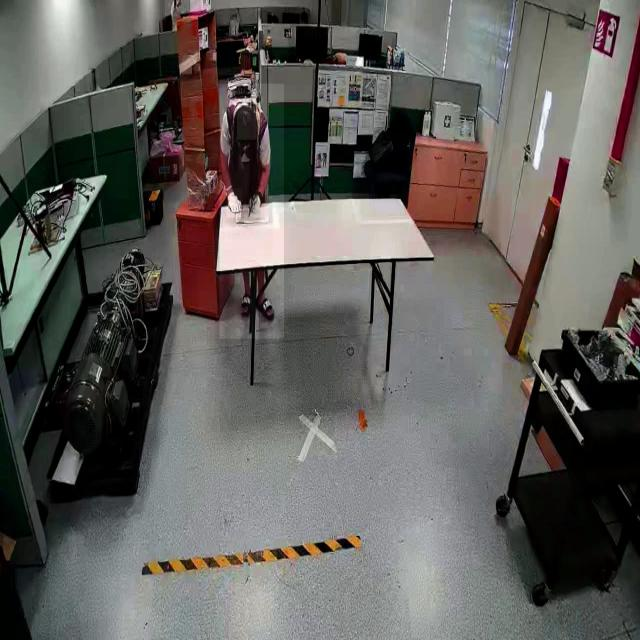hand_glove: (247, 184, 265, 220), (226, 188, 242, 218)
head_nohelmet: (236, 106, 256, 140)
person: (219, 83, 284, 340)
